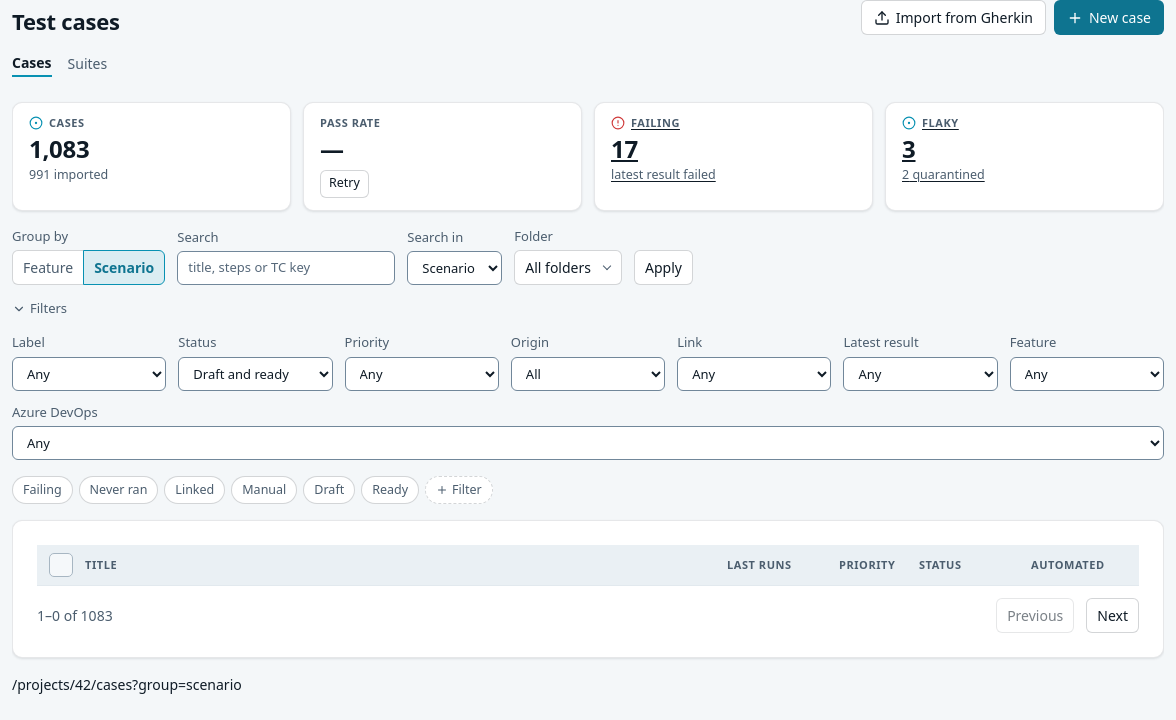
Test case: an error shows a dash and Retry in that tile only
expect the element named "Pass rate unavailable" shows "—": met, box [320, 132, 344, 164]
expect the element "Cases 1,083 991 imported" is shown: met, box [12, 102, 291, 210]
Click the button with aria-label "Retry pass rate". click: point(344, 184)
box: [320, 170, 369, 198]
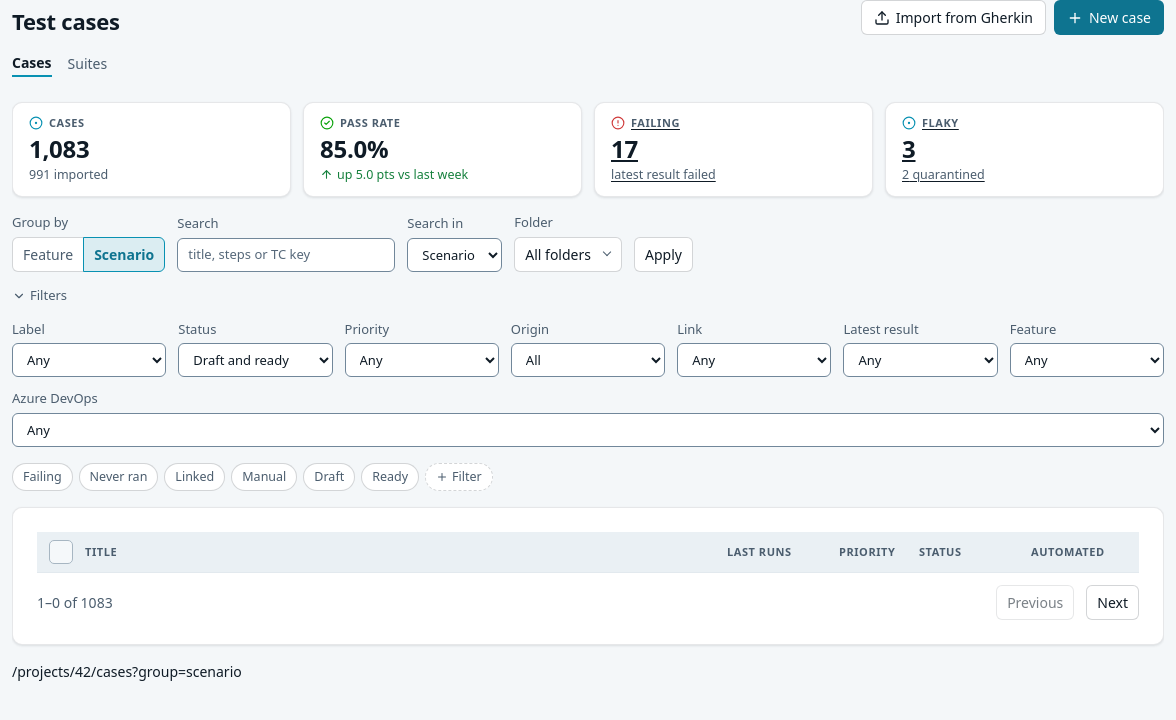
expect the element named "Pass rate 85.0%, up 5.0 points versus last week" is shown: met, box [303, 102, 582, 197]
